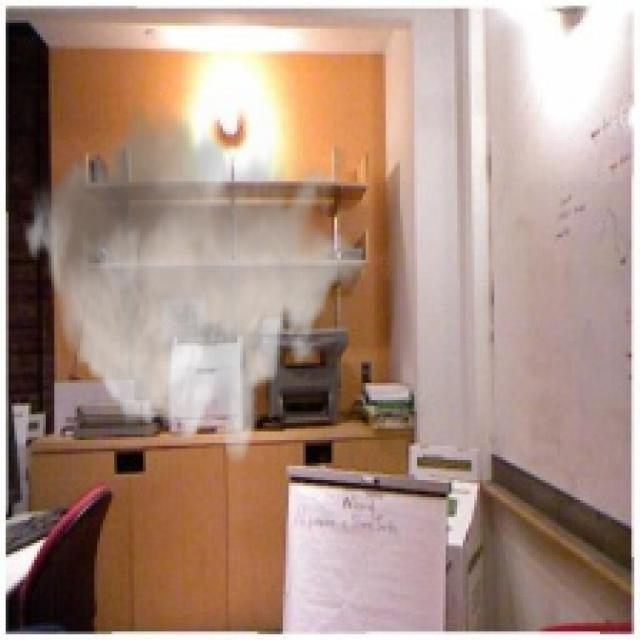Smoke: (20, 94, 369, 466)
